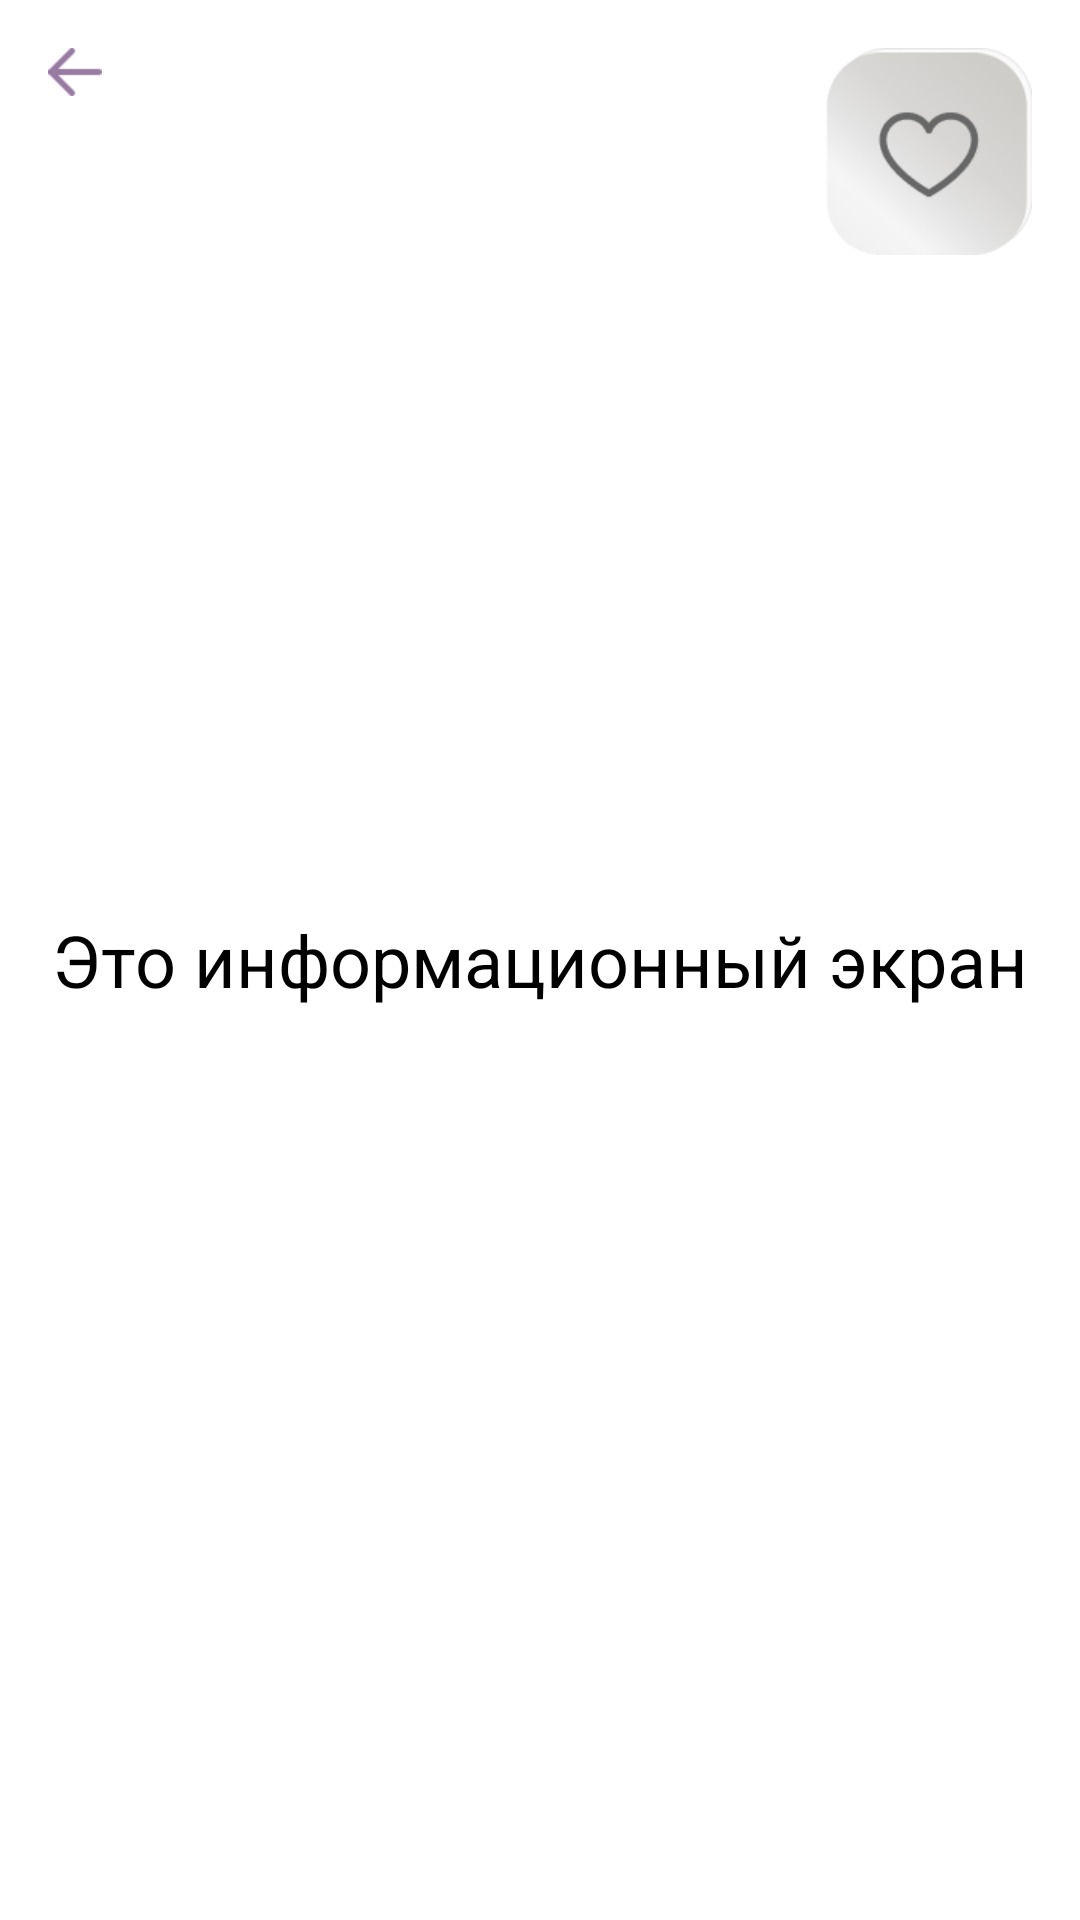

Named icons in this screenshot (1080*1920) and their centers, (x,y):
back: (75,72)
like: (930,150)
